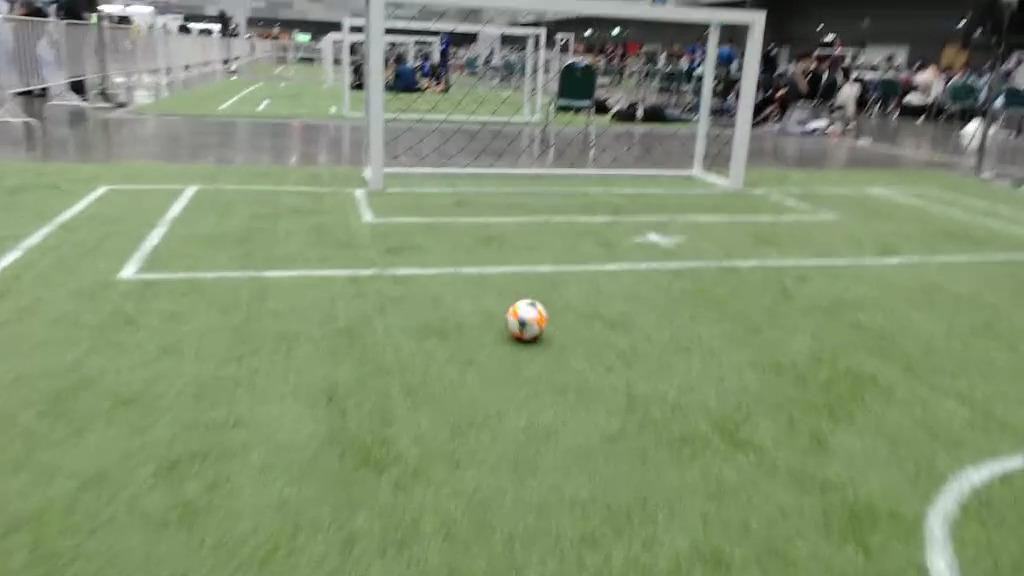ball: (507, 299, 546, 342)
